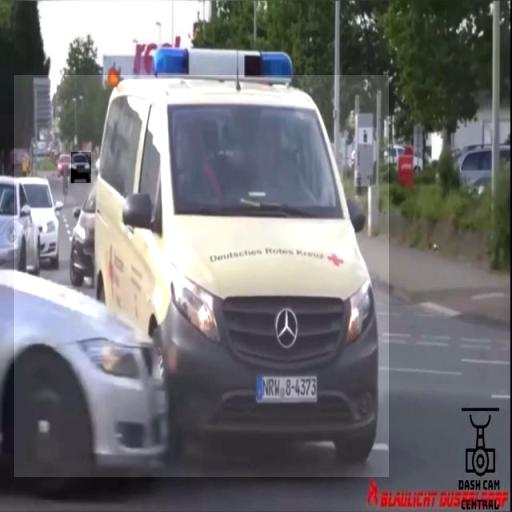小汽车: (71, 152, 91, 183)
小汽车撞小汽车: (14, 75, 389, 477)
